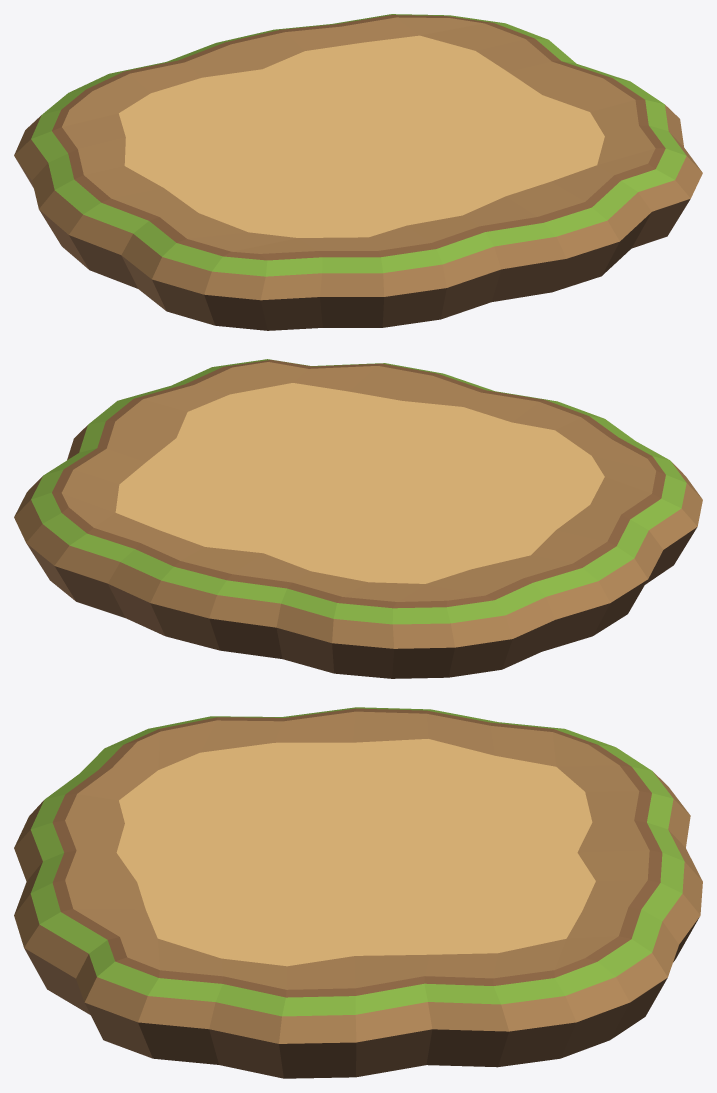
The model's file is Ground.fbx.
3 renders of one model, top to bottom at view 1: azimuth 30°, elevation 25°; view 2: azimuth 150°, elevation 25°; view 3: azimuth 270°, elevation 25°, orthographic. The views are drawn at different scales.
Visible parts, largest first — view 1: Ground; view 2: Ground; view 3: Ground.
Part boxes in pixels (left/top/right/bottom): Ground: left=14, top=14, right=702, bottom=330; Ground: left=14, top=359, right=702, bottom=678; Ground: left=14, top=707, right=702, bottom=1078.
Size of the model in its own units: 4074 by 455 by 3652.
